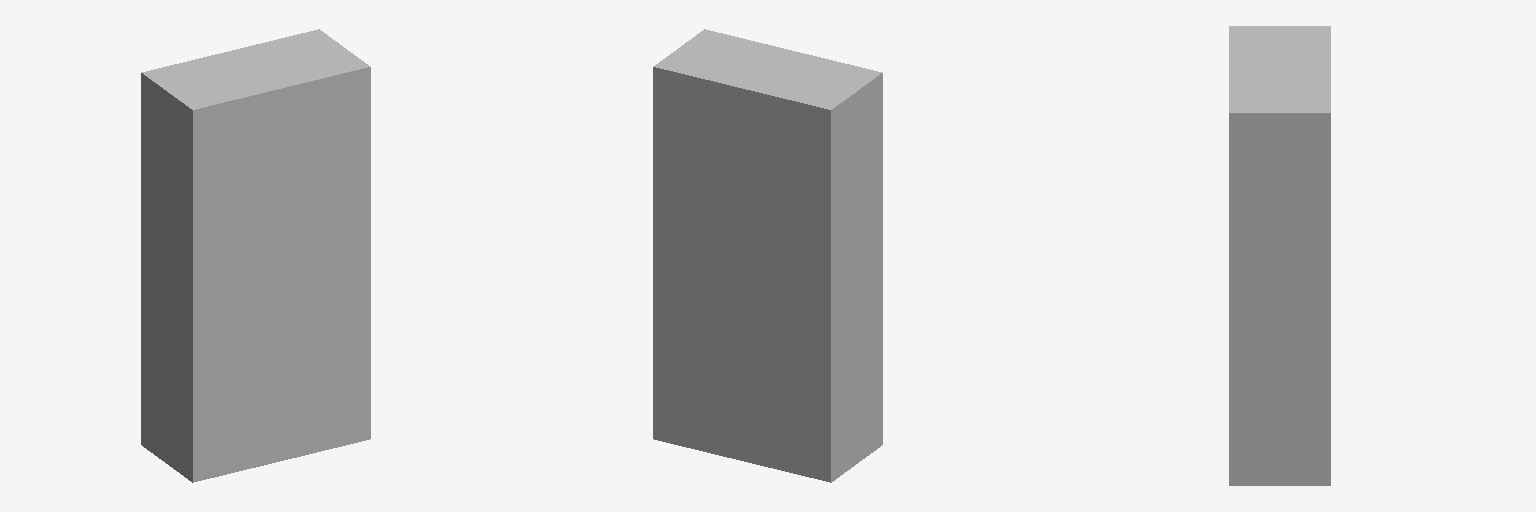
The model's file is Door.obj.
3 views of the same model, side by side, from view 1: azimuth 30°, elevation 25°; view 2: azimuth 150°, elevation 25°; view 3: azimuth 270°, elevation 25° (orthographic).
Visible parts, largest first — view 1: Door; view 2: Door; view 3: Door.
Part boxes in pixels (left/top/right/bottom): Door: left=141, top=29, right=370, bottom=482; Door: left=653, top=29, right=882, bottom=482; Door: left=1229, top=26, right=1330, bottom=485.
Bounding box in the file's own units: 0.2 × 0.4 × 0.1.